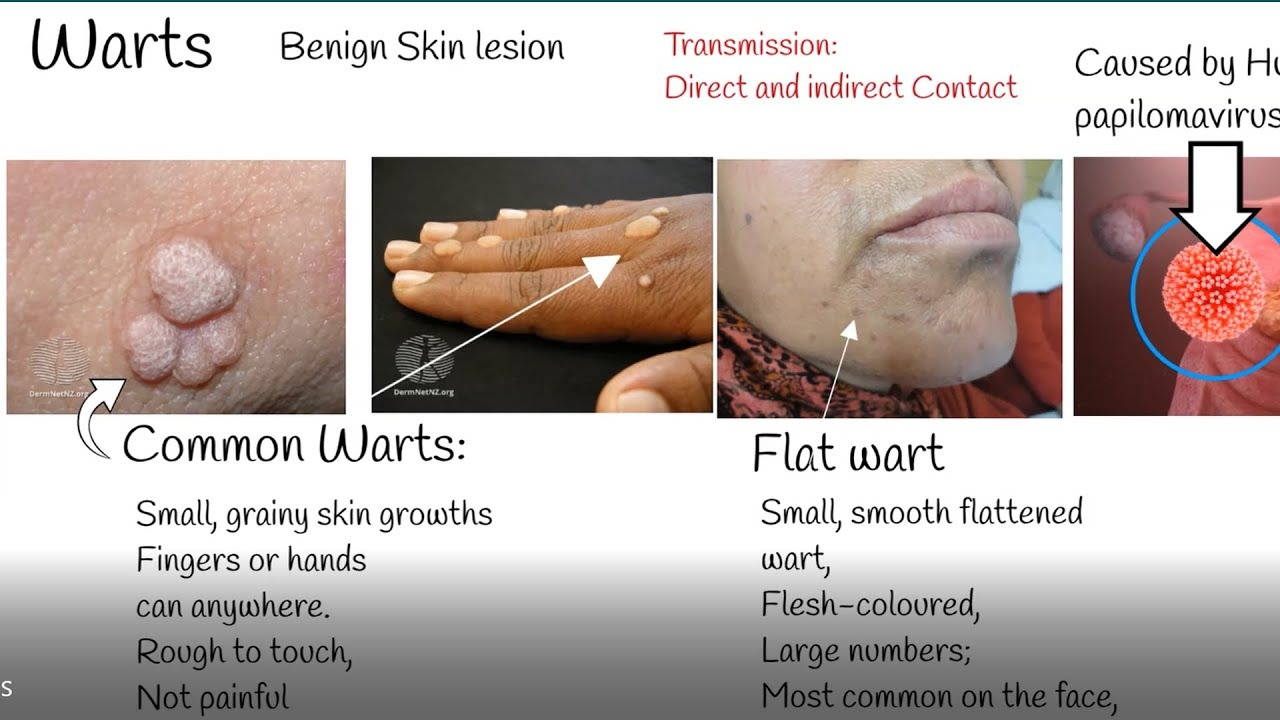Warts: (88, 209, 265, 396), (620, 202, 686, 303), (420, 234, 469, 266), (475, 234, 509, 263)
